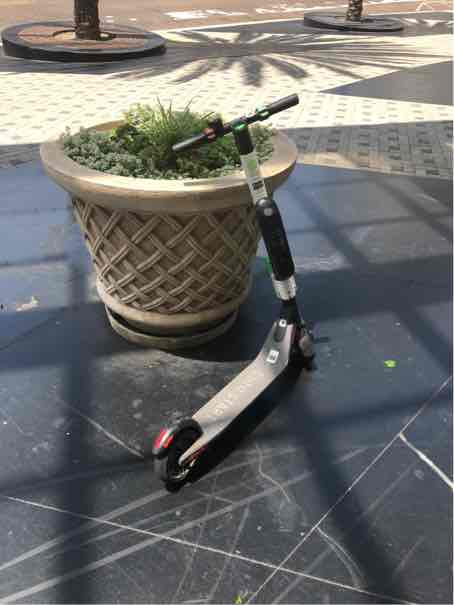scooter: (154, 97, 334, 499)
